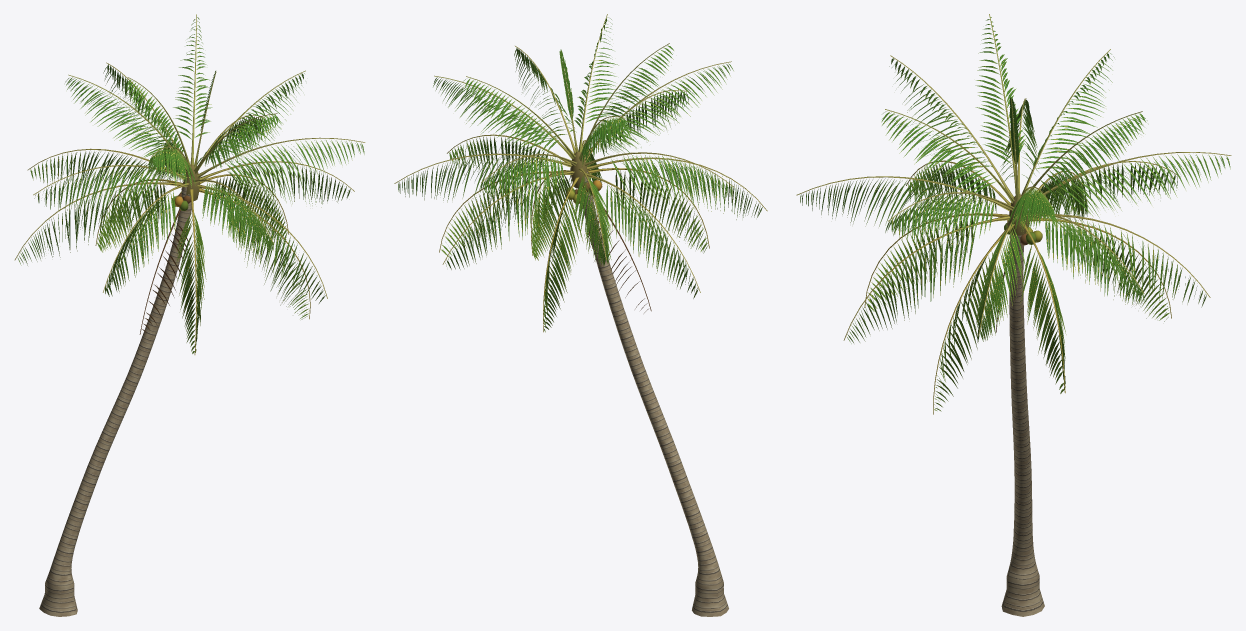
3 renders of one model, left to right at view 1: azimuth 30°, elevation 25°; view 2: azimuth 150°, elevation 25°; view 3: azimuth 270°, elevation 25°, orthographic. The views are drawn at different scales.
Parts seen in each view (by area): view 1: fronds, trunk, crown_husk; view 2: fronds, trunk, crown_husk; view 3: fronds, trunk, crown_husk.
Boxes of the visible parts, x1,y1,x2,y2 form: fronds: (14,14,365,354); trunk: (39,186,193,616); crown_husk: (139,164,199,334); fronds: (394,14,767,332); trunk: (578,171,728,616); crown_husk: (566,151,651,312); fronds: (796,14,1231,414); trunk: (1001,234,1044,616); crown_husk: (995,194,1042,332).
Size of the model in its own units: 9.3 by 15.66 by 9.87.
Materials: 3 (3 with a texture image).
